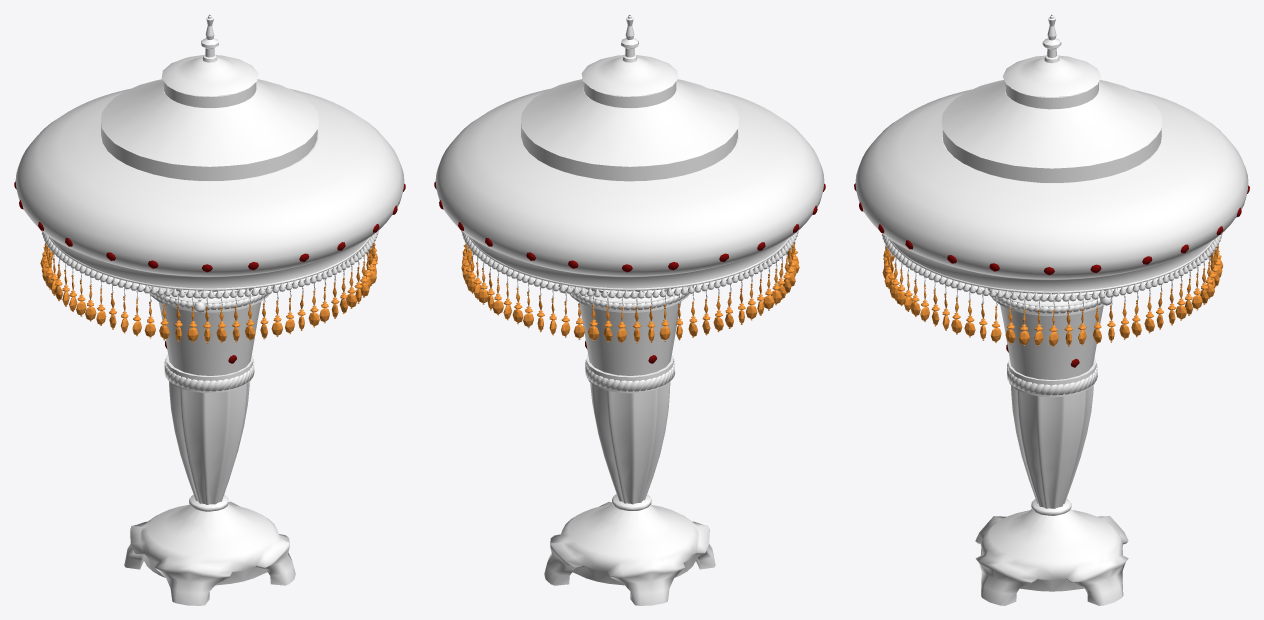
The model's file is M_StainedLamp.obj.
The picture shows the model from 3 angles, left to right: view 1: azimuth 30°, elevation 25°; view 2: azimuth 150°, elevation 25°; view 3: azimuth 270°, elevation 25°; orthographic projection.
Visible parts, largest first — view 1: M_StainedLamp_stainedglass_m6, M_StainedLamp_base_m5, M_StainedLamp_grill_m0, M_StainedLamp_amberbeads_m2, M_StainedLamp_hardware_m4, M_StainedLamp_redgems_m3, M_StainedLamp_steel_m1; view 2: M_StainedLamp_stainedglass_m6, M_StainedLamp_base_m5, M_StainedLamp_grill_m0, M_StainedLamp_amberbeads_m2, M_StainedLamp_hardware_m4, M_StainedLamp_redgems_m3, M_StainedLamp_steel_m1; view 3: M_StainedLamp_stainedglass_m6, M_StainedLamp_base_m5, M_StainedLamp_grill_m0, M_StainedLamp_amberbeads_m2, M_StainedLamp_hardware_m4, M_StainedLamp_redgems_m3, M_StainedLamp_steel_m1.
Part boxes in pixels (box(x1,y1,x2,y2)): M_StainedLamp_stainedglass_m6: box(15, 79, 404, 375); M_StainedLamp_base_m5: box(124, 285, 295, 605); M_StainedLamp_grill_m0: box(101, 55, 317, 180); M_StainedLamp_amberbeads_m2: box(40, 242, 377, 343); M_StainedLamp_hardware_m4: box(41, 14, 378, 312); M_StainedLamp_redgems_m3: box(14, 181, 405, 363); M_StainedLamp_steel_m1: box(46, 245, 372, 339); M_StainedLamp_stainedglass_m6: box(435, 79, 824, 375); M_StainedLamp_base_m5: box(544, 285, 715, 605); M_StainedLamp_grill_m0: box(521, 55, 737, 181); M_StainedLamp_amberbeads_m2: box(461, 242, 799, 343); M_StainedLamp_hardware_m4: box(461, 14, 798, 298); M_StainedLamp_redgems_m3: box(434, 181, 825, 363); M_StainedLamp_steel_m1: box(466, 244, 793, 340); M_StainedLamp_stainedglass_m6: box(855, 80, 1248, 379); M_StainedLamp_base_m5: box(975, 288, 1128, 605); M_StainedLamp_grill_m0: box(942, 55, 1161, 182); M_StainedLamp_amberbeads_m2: box(882, 245, 1223, 347); M_StainedLamp_hardware_m4: box(882, 14, 1222, 305); M_StainedLamp_redgems_m3: box(854, 183, 1249, 367); M_StainedLamp_steel_m1: box(888, 248, 1216, 345).
Size of the model in its own units: 0.4399 by 0.6889 by 0.4399.
